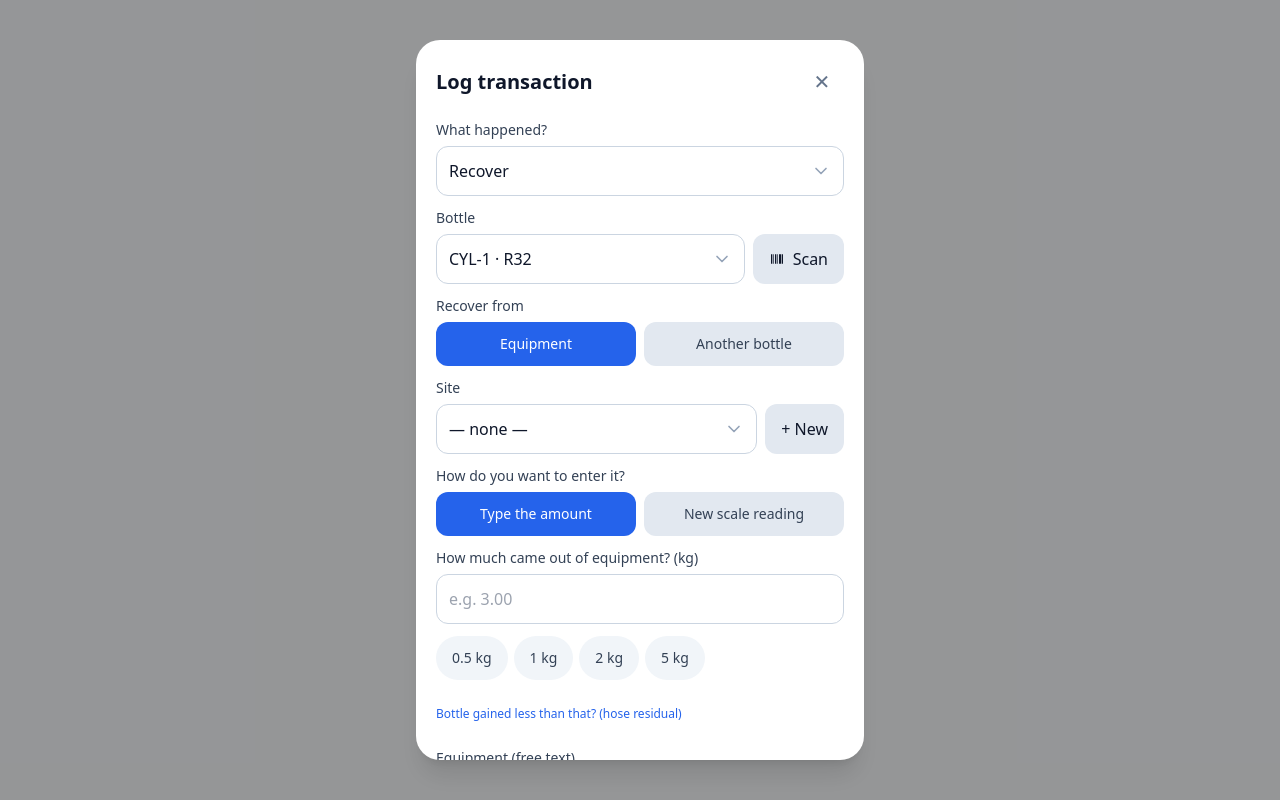
Scenario: LogForm — unified log form smoke › offers bottle-to-bottle recovery on the recover path
Click the button "Another bottle". click: (744, 344)
box: [644, 322, 844, 366]
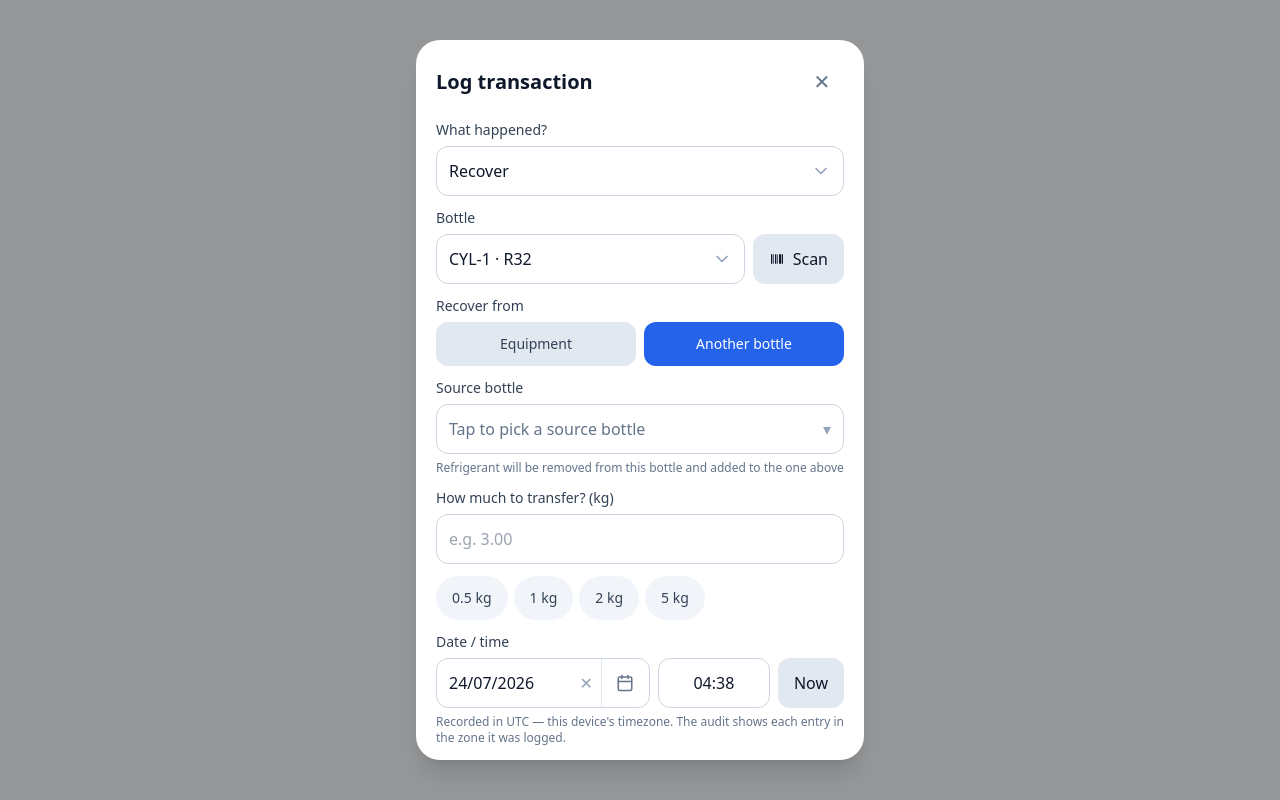
expect the text "Source bottle" is shown: met, box [436, 378, 523, 397]
